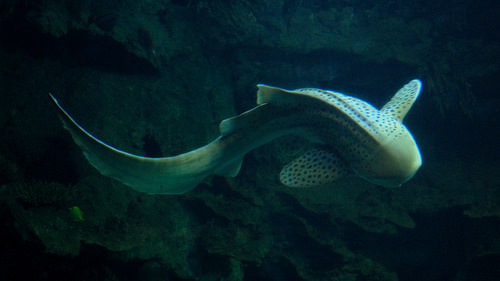shark: (34, 62, 447, 206)
